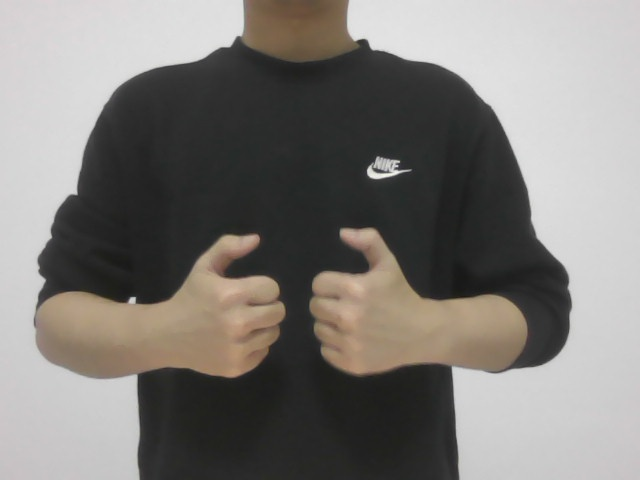marry/wife: (157, 209, 430, 385)
